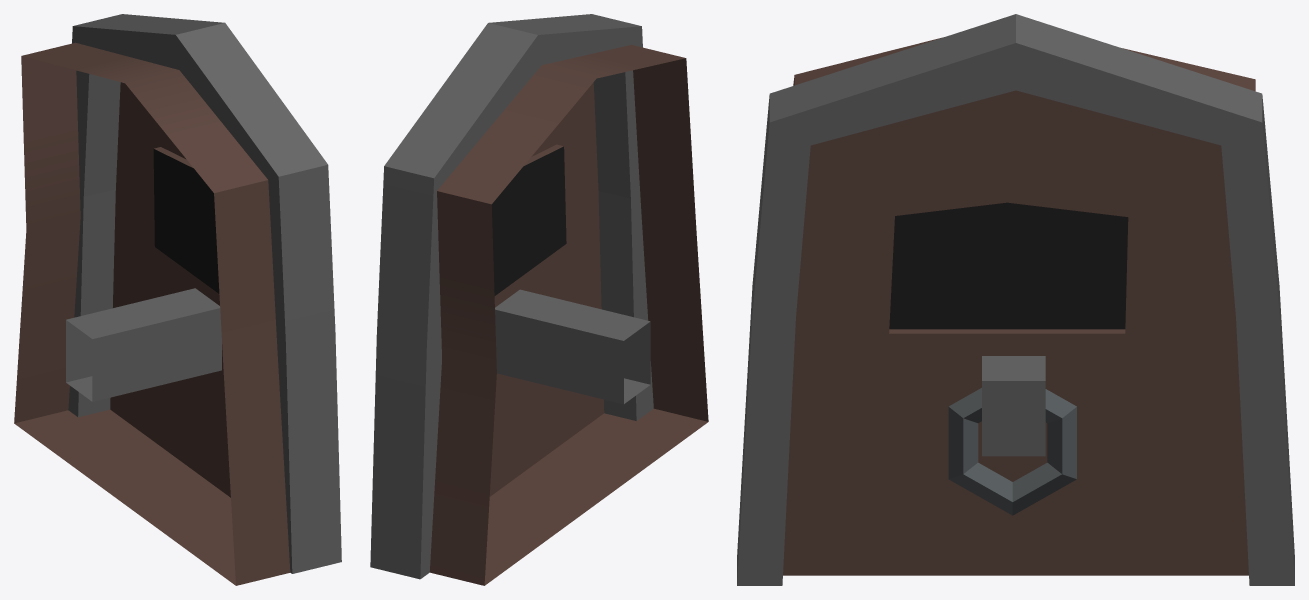
The model's file is Door.fbx.
3 views of the same model, side by side, from view 1: azimuth 30°, elevation 25°; view 2: azimuth 150°, elevation 25°; view 3: azimuth 270°, elevation 25° (orthographic). The views are drawn at different scales.
Parts seen in each view (by area): view 1: pCube22; view 2: pCube22; view 3: pCube22.
Part boxes in pixels (box(x1,y1,x2,y2)): pCube22: box(14, 14, 341, 585); pCube22: box(370, 14, 708, 585); pCube22: box(737, 14, 1294, 585).
Bounding box in the file's own units: 0.9761 × 2.44 × 2.28.
1 material, 1 textured.
